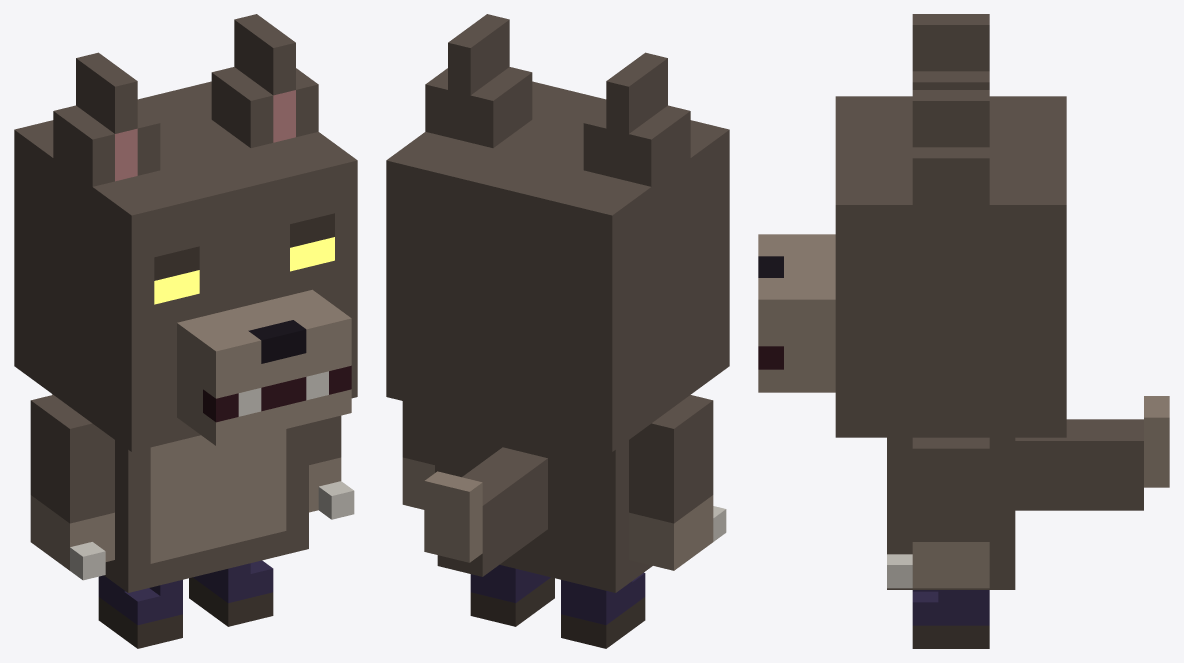
File: werewolf.glb
3 renders of one model, left to right at view 1: azimuth 30°, elevation 25°; view 2: azimuth 150°, elevation 25°; view 3: azimuth 270°, elevation 25°, orthographic.
Parts seen in each view (by area): view 1: Head, Body, ArmR, LegR, LegL, ArmL; view 2: Head, Body, ArmR, LegR, LegL, ArmL; view 3: Head, Body, ArmL, LegL.
Part boxes in pixels (<box>): Head: <box>14,14,357,451</box>; Body: <box>52,394,308,592</box>; ArmR: <box>30,395,114,580</box>; LegR: <box>98,575,182,648</box>; LegL: <box>189,560,273,626</box>; ArmL: <box>309,415,354,519</box>; Head: <box>386,14,729,451</box>; Body: <box>424,409,652,592</box>; ArmR: <box>629,395,726,570</box>; LegR: <box>561,572,645,648</box>; LegL: <box>470,564,554,626</box>; ArmL: <box>402,401,434,509</box>; Head: <box>758,14,1066,437</box>; Body: <box>887,396,1169,589</box>; ArmL: <box>887,437,989,588</box>; LegL: <box>912,590,989,648</box>.
Size of the model in its own units: 1.2 by 2.4 by 1.6.
